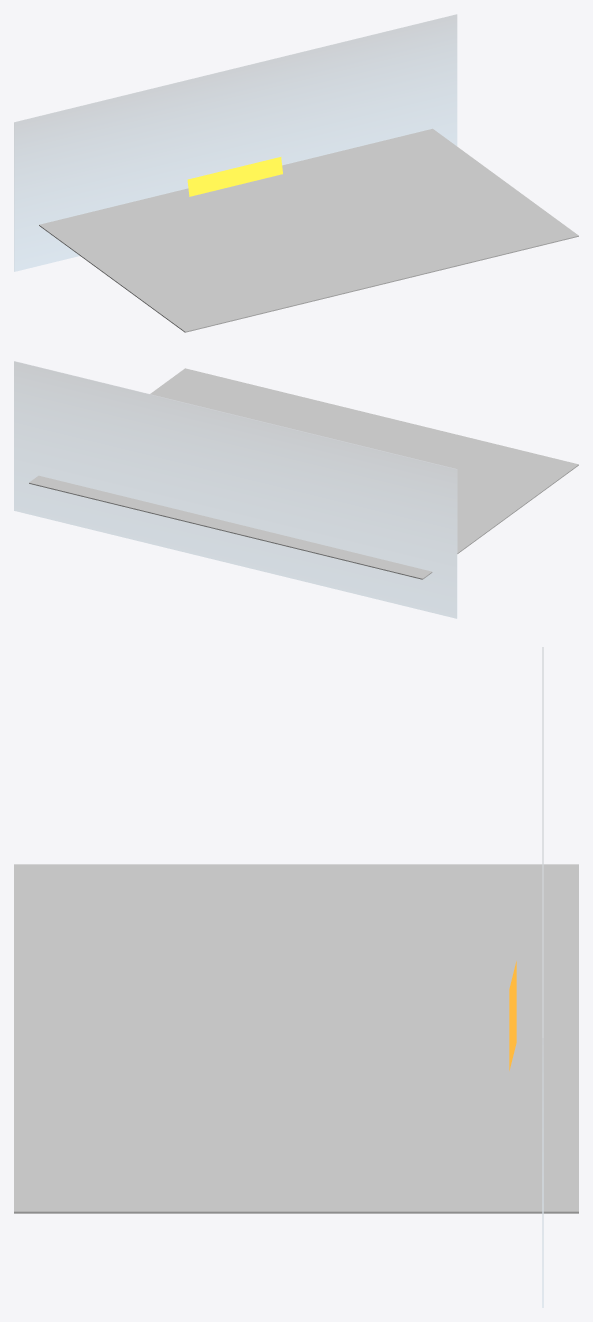
Rendered from f_india.glb.
The picture shows the model from 3 angles, top to bottom: view 1: azimuth 30°, elevation 25°; view 2: azimuth 150°, elevation 25°; view 3: azimuth 270°, elevation 25°; orthographic projection. The views are drawn at different scales.
Parts seen in each view (by area): view 1: Ground contact / transparent shadow receiver.056, Sky gradient / editable material.056, Flag cloth / full-bleed source fields.028; view 2: Sky gradient / editable material.056, Ground contact / transparent shadow receiver.056; view 3: Ground contact / transparent shadow receiver.056, Sky gradient / editable material.056.
Part boxes in pixels (<box>): Ground contact / transparent shadow receiver.056: <box>39,128,578,332</box>; Sky gradient / editable material.056: <box>14,14,457,271</box>; Flag cloth / full-bleed source fields.028: <box>187,157,282,196</box>; Sky gradient / editable material.056: <box>14,361,457,618</box>; Ground contact / transparent shadow receiver.056: <box>29,368,578,579</box>; Ground contact / transparent shadow receiver.056: <box>14,864,578,1213</box>; Sky gradient / editable material.056: <box>542,647,543,1307</box>.
Bounding box in the file's own units: 180 × 58 × 110.
